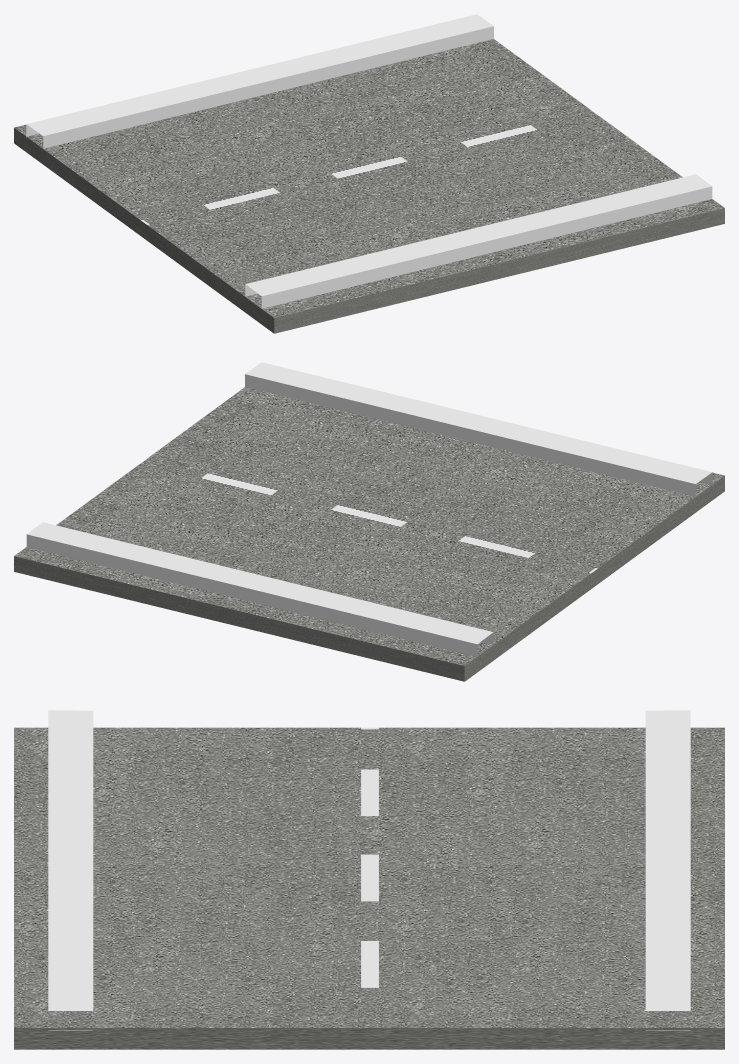
The model's file is Road.fbx.
3 renders of one model, top to bottom at view 1: azimuth 30°, elevation 25°; view 2: azimuth 150°, elevation 25°; view 3: azimuth 270°, elevation 25°, orthographic. The views are drawn at different scales.
Visible parts, largest first — view 1: YOL; view 2: YOL; view 3: YOL.
Part boxes in pixels (left/top/right/bottom): YOL: left=14, top=14, right=724, bottom=333; YOL: left=14, top=362, right=724, bottom=681; YOL: left=14, top=710, right=724, bottom=1049.
Bounding box in the file's own units: 601 × 36.05 × 600.
